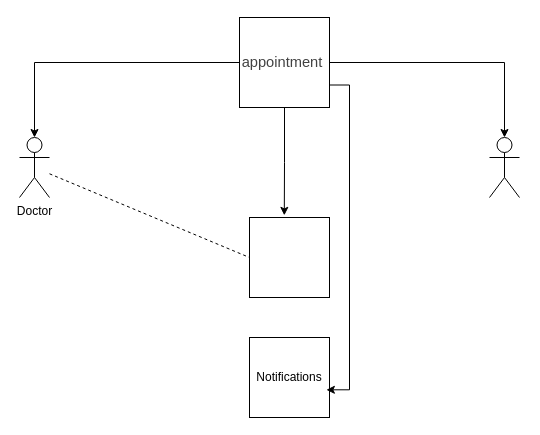
This 540x435 diagram has some shape labels left out. Here are the shapes that lost their labels. From the top down, the centre of each, then its label:
At [504,167]: "Patient".
At [289,257]: "slots".
